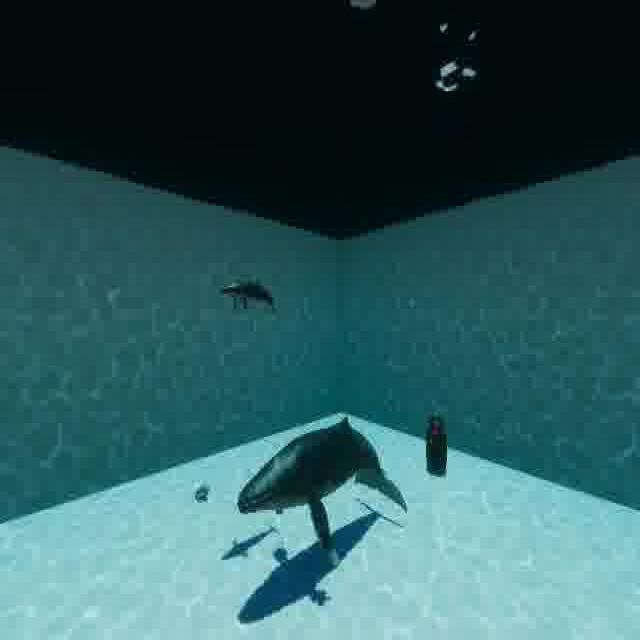Cylinder: (426, 402, 455, 485)
Shell: (189, 474, 214, 516)
Whale: (225, 410, 413, 550), (210, 264, 296, 330)
